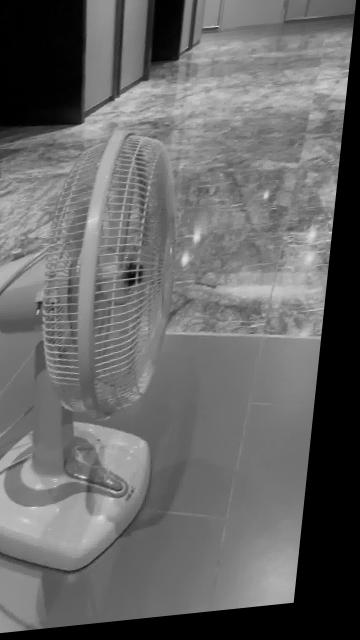Fan: (0, 132, 182, 578)
